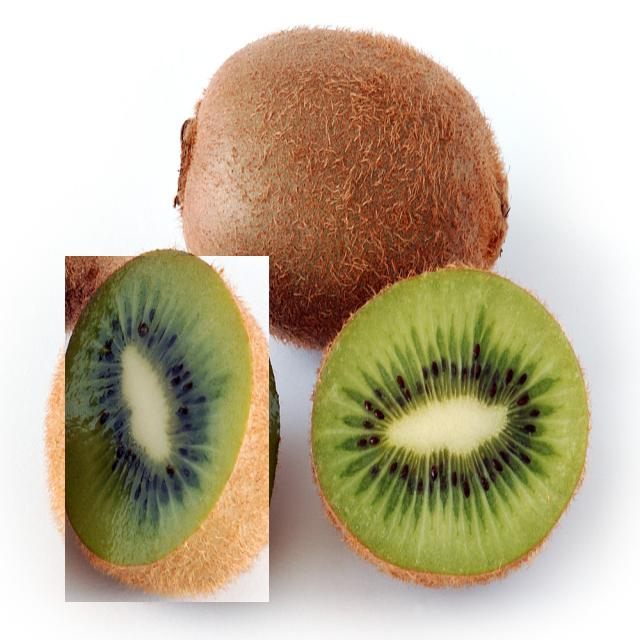Qiwi: (159, 21, 532, 355), (292, 272, 609, 591), (65, 256, 269, 602)
